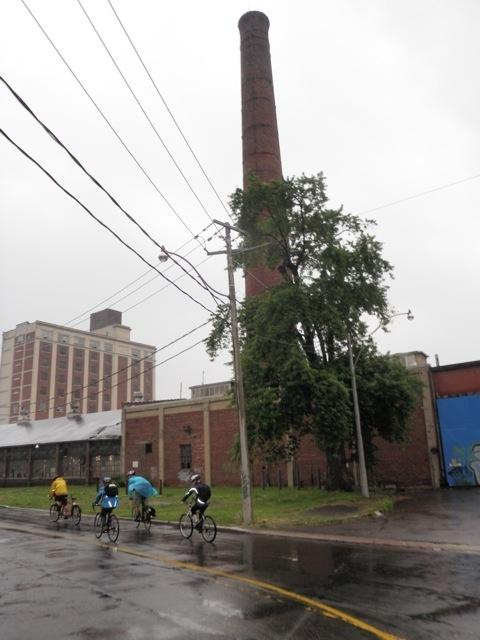non-vehicle: (177, 500, 217, 543), (47, 489, 81, 526), (91, 502, 119, 542), (129, 495, 153, 530)
